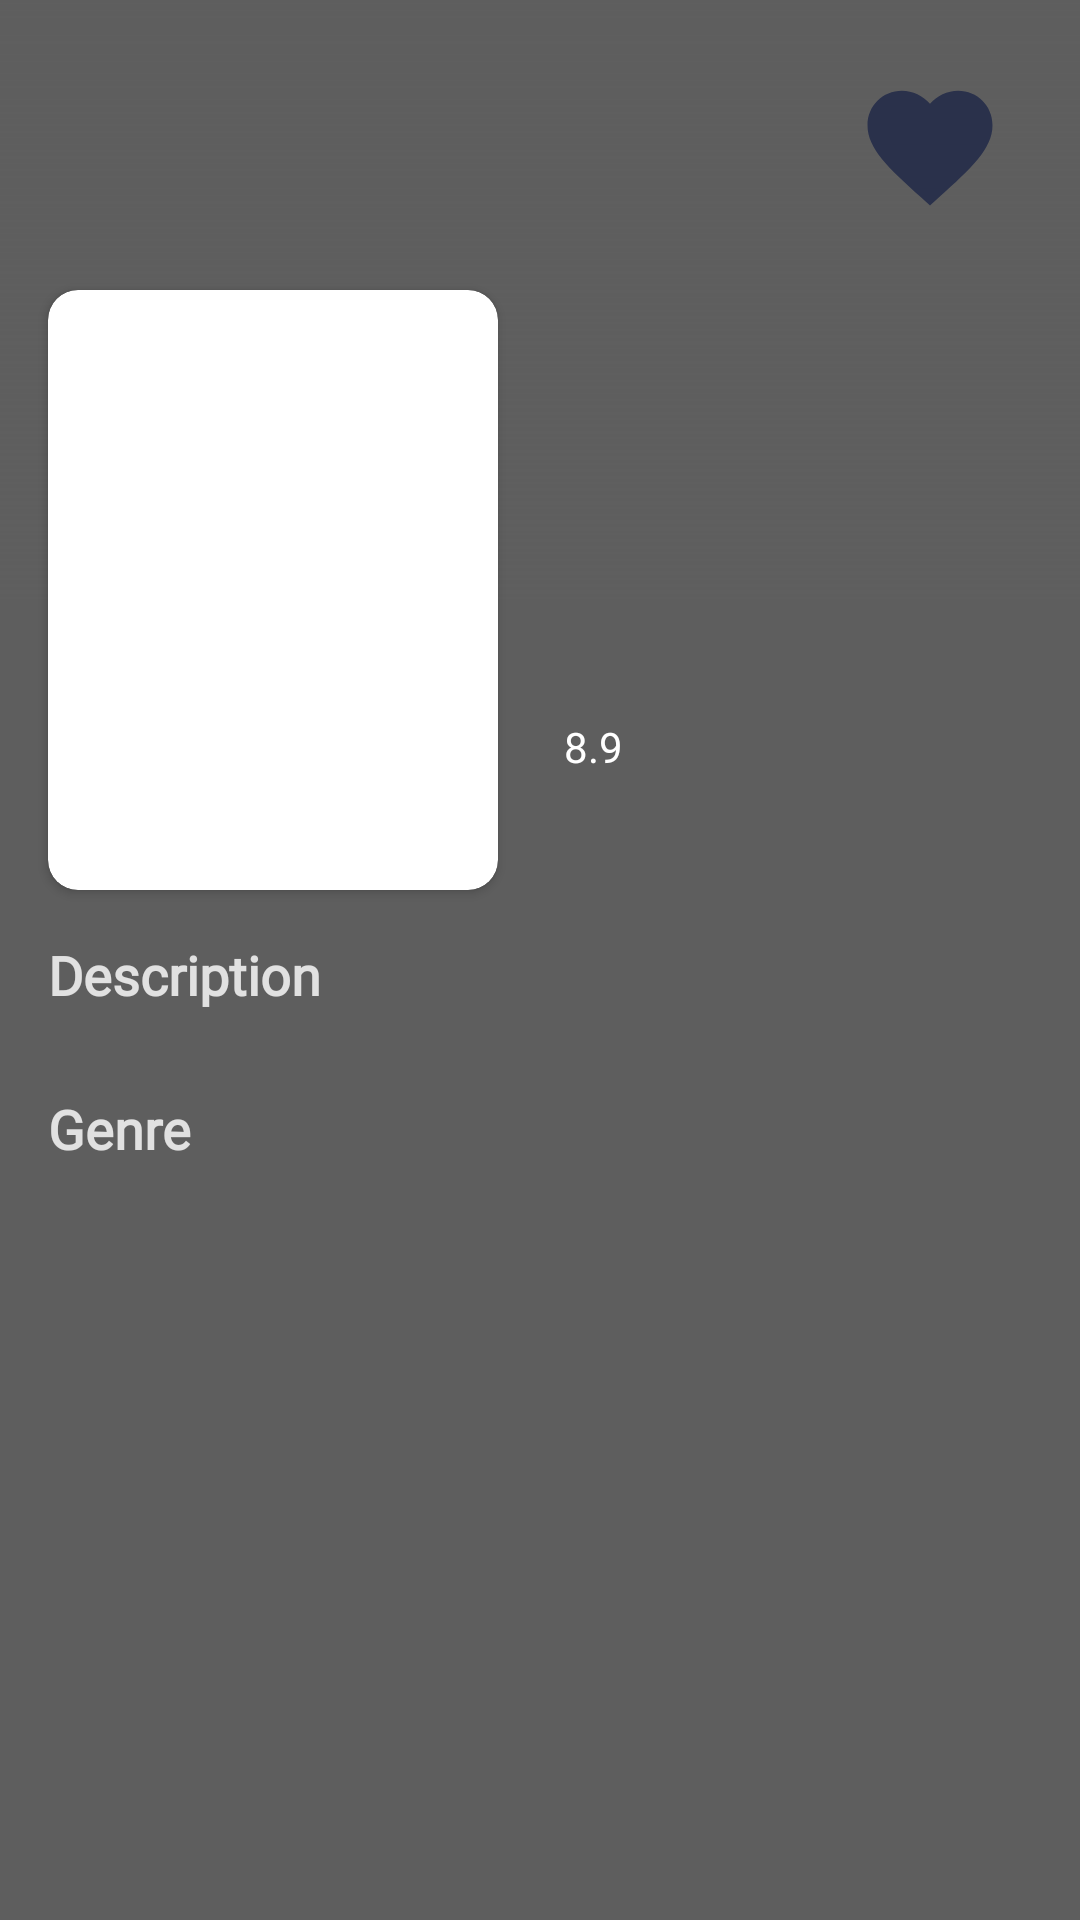

Screen size 1080x1920. Icon name, then its center in pixels as [x,y]:
fav: [930,148]
